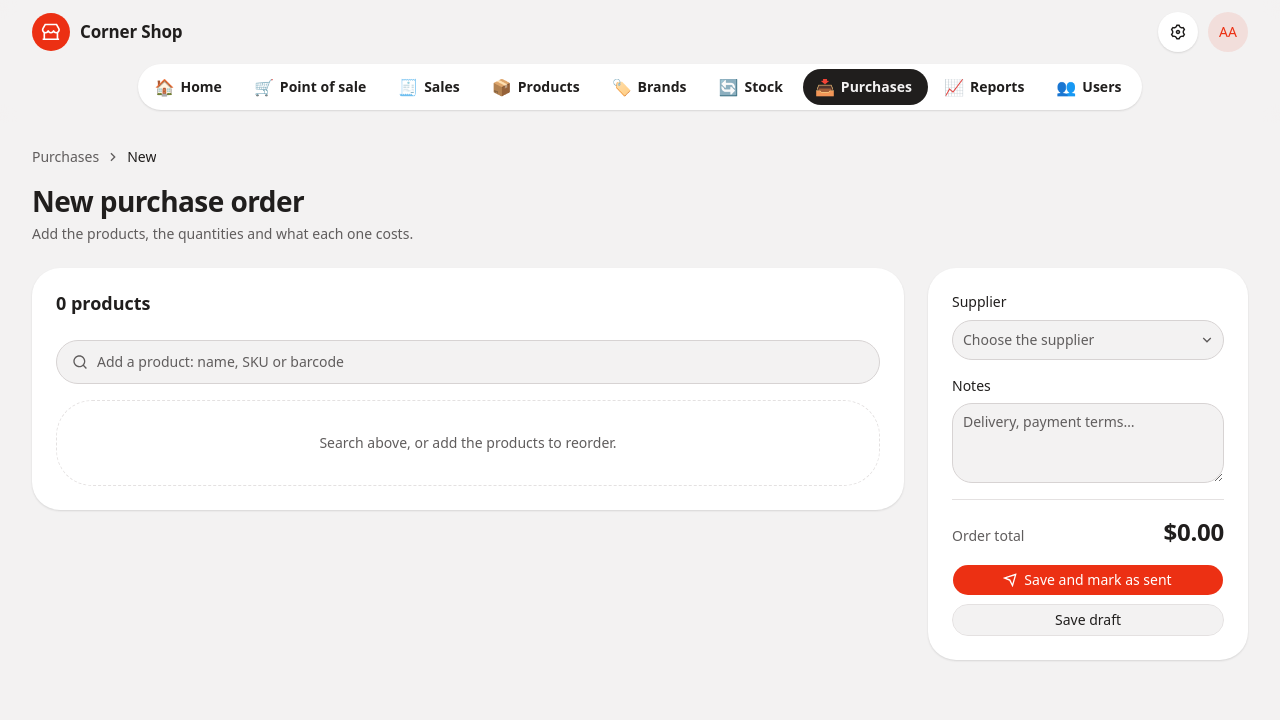
Test: New purchase order › adds products from the search and says what is missing
This screenshot has width=1280, height=720.
Click the button "Save draft": (1088,620) [952,604,1224,636]
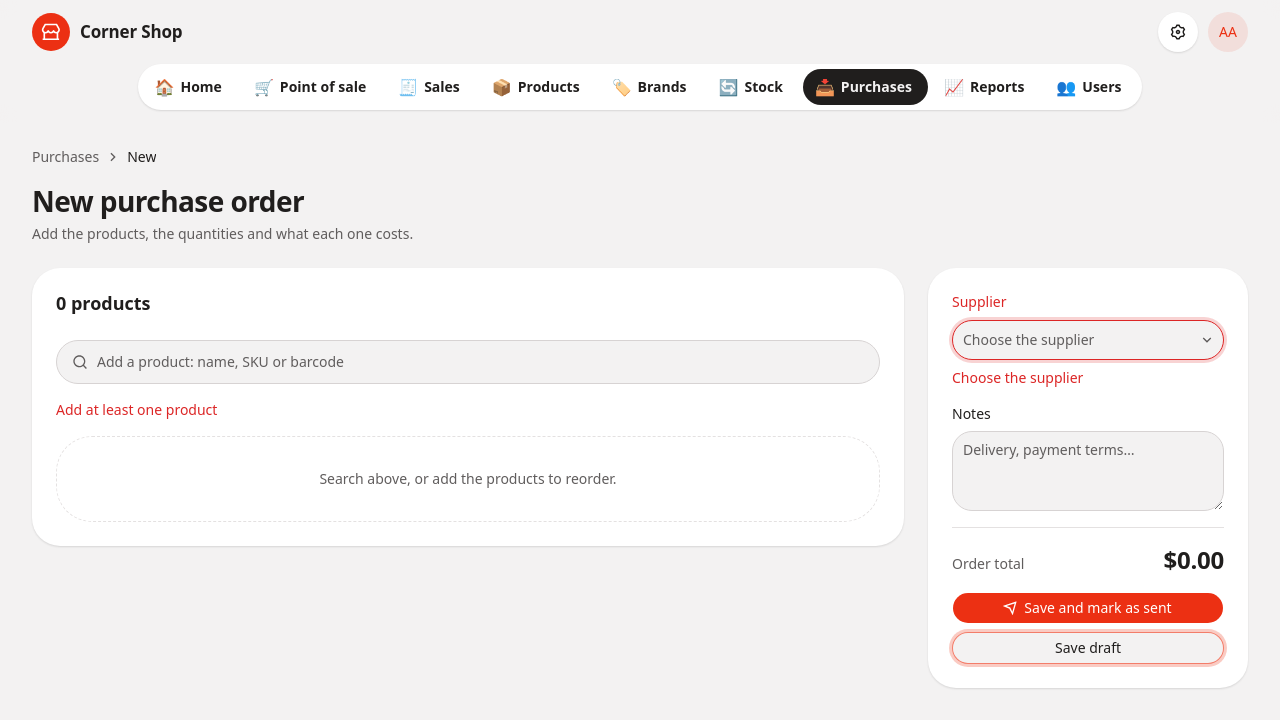
Check: the text "Add at least one product" is shown, box [56,400,217,419]
In the search field labelled "Add a product: name, SKU or barcode": (468,362) [56,340,880,384], type "cof"
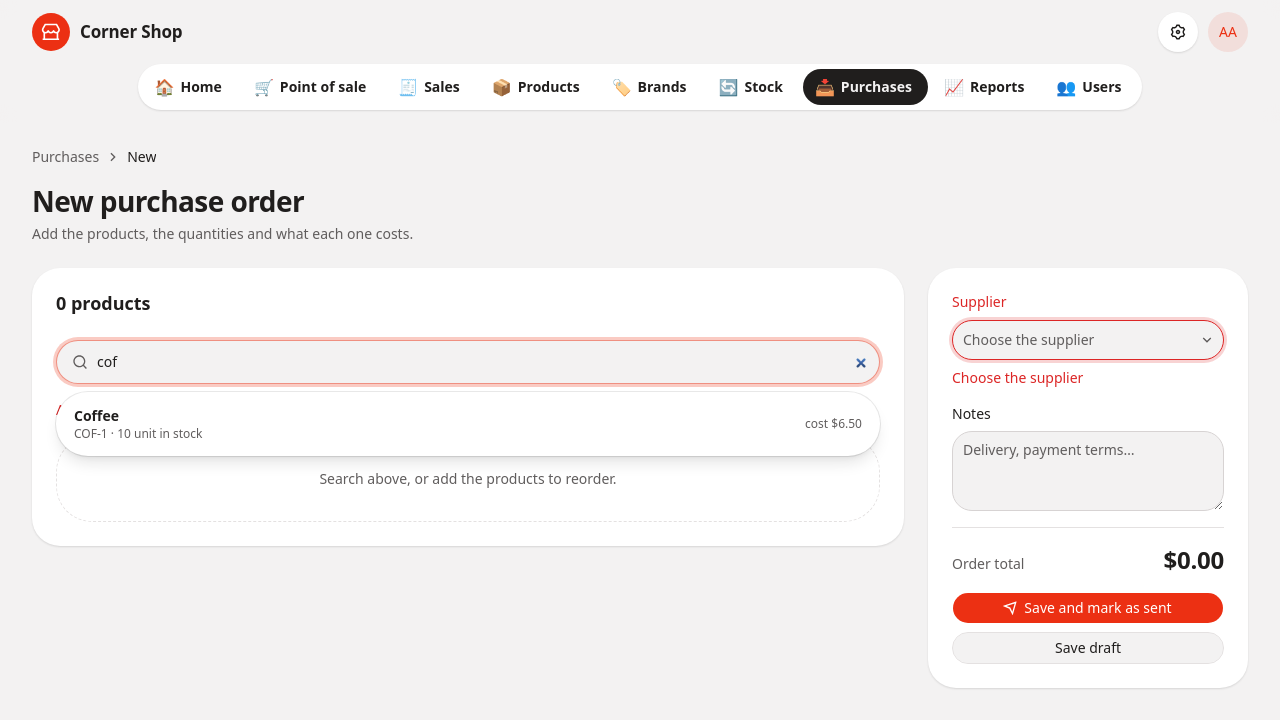
Click the button with aria-label "Add Coffee": (96,415) [62,398,874,450]
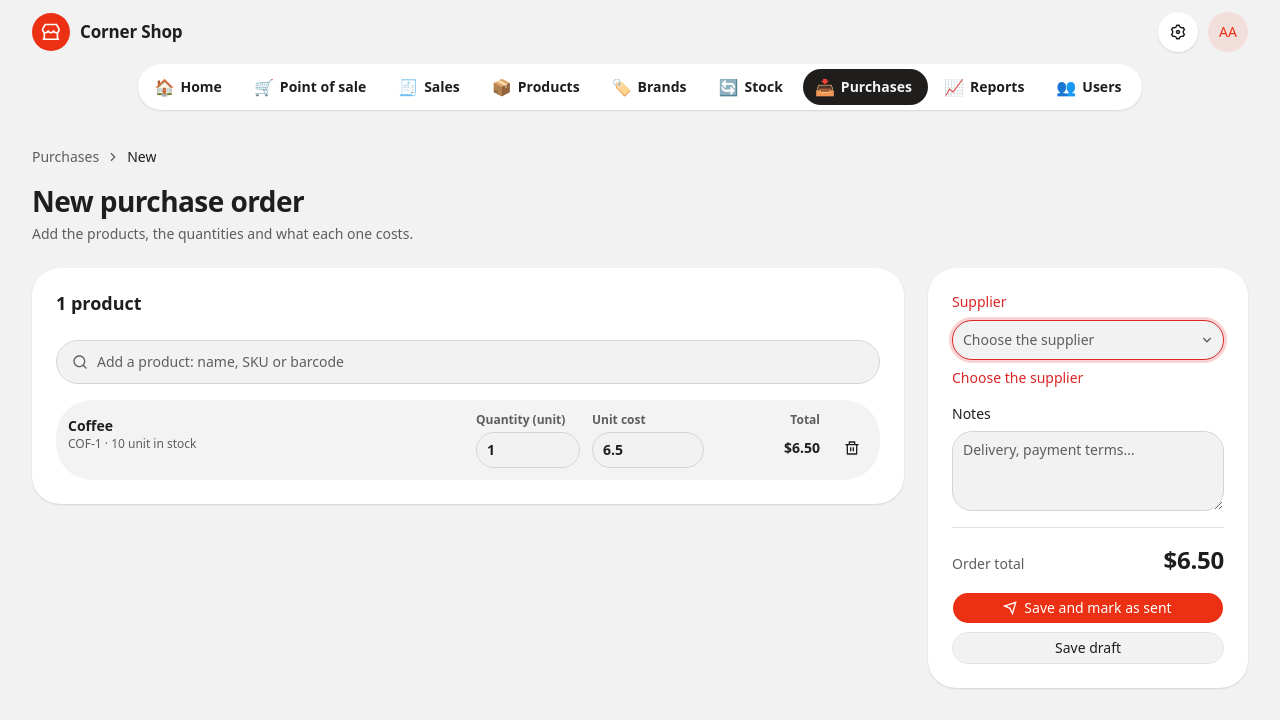
Check: the field named "Quantity of Coffee" holds "1"
Check: the field named "Unit cost of Coffee" holds "6.5", box [592,432,704,468]
Replace the text in the field named "Quantity of Coffee" with "1,5": (528,450) [476,432,580,468]
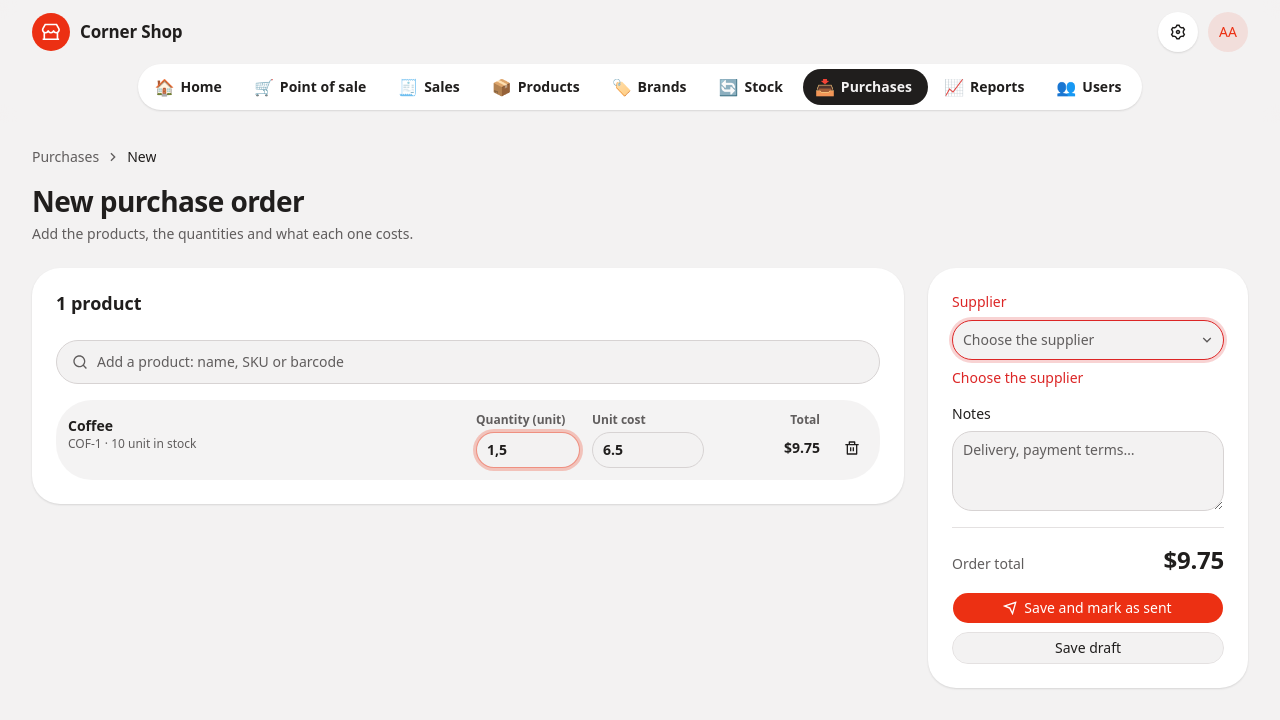
Click the button "Save draft": (1088,648) [952,632,1224,664]
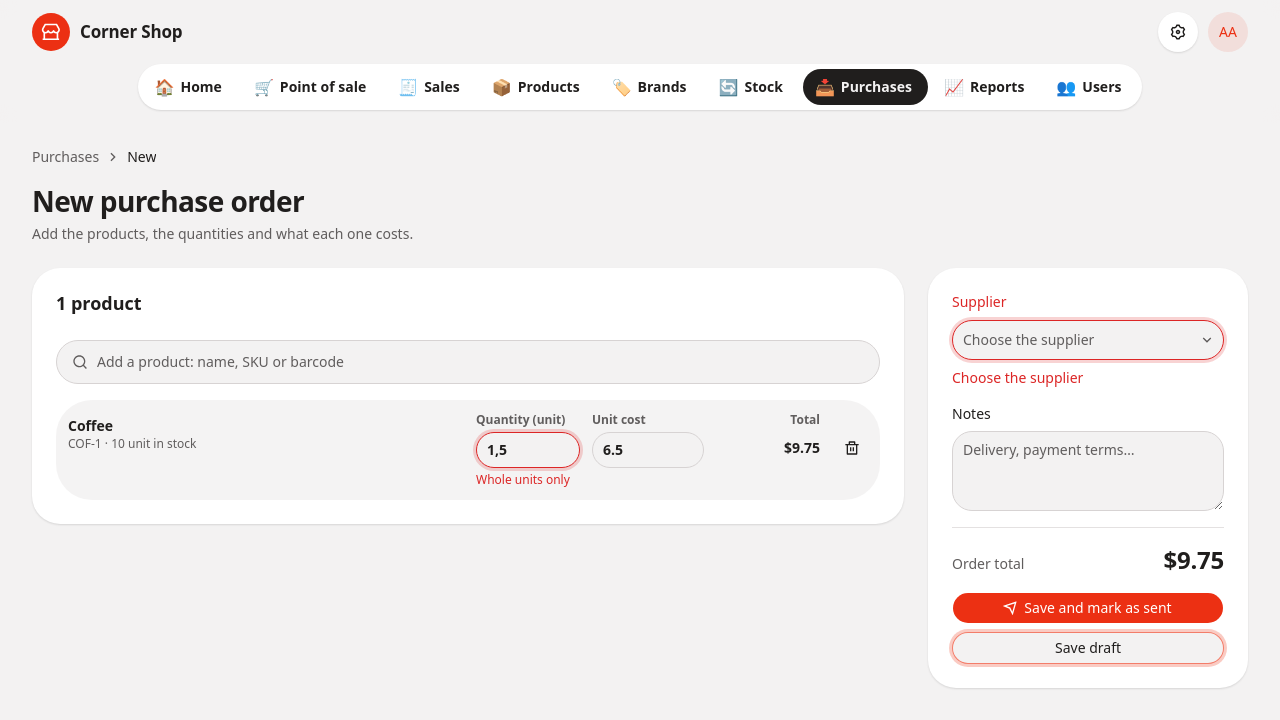
Check: the text "Whole units only" is shown, box [476,472,580,488]
